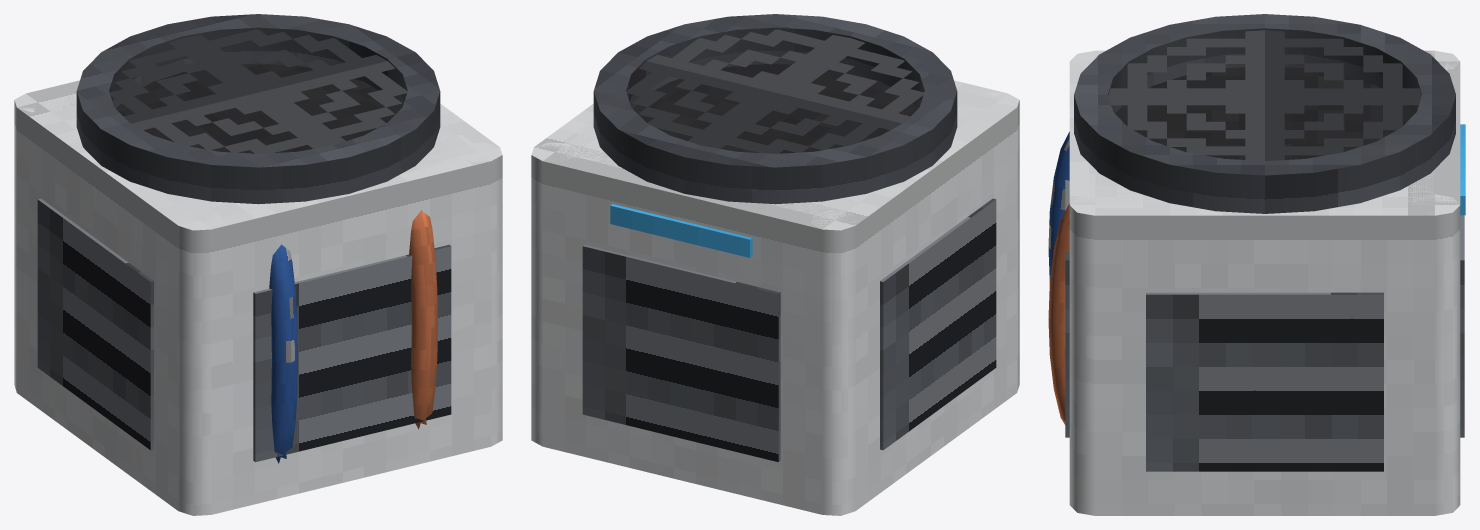
The model's file is cooling_unit_active.obj.
3 renders of one model, left to right at view 1: azimuth 30°, elevation 25°; view 2: azimuth 150°, elevation 25°; view 3: azimuth 270°, elevation 25°, orthographic. The views are drawn at different scales.
Size of the model in its own units: 0.94 by 0.88 by 0.982.
